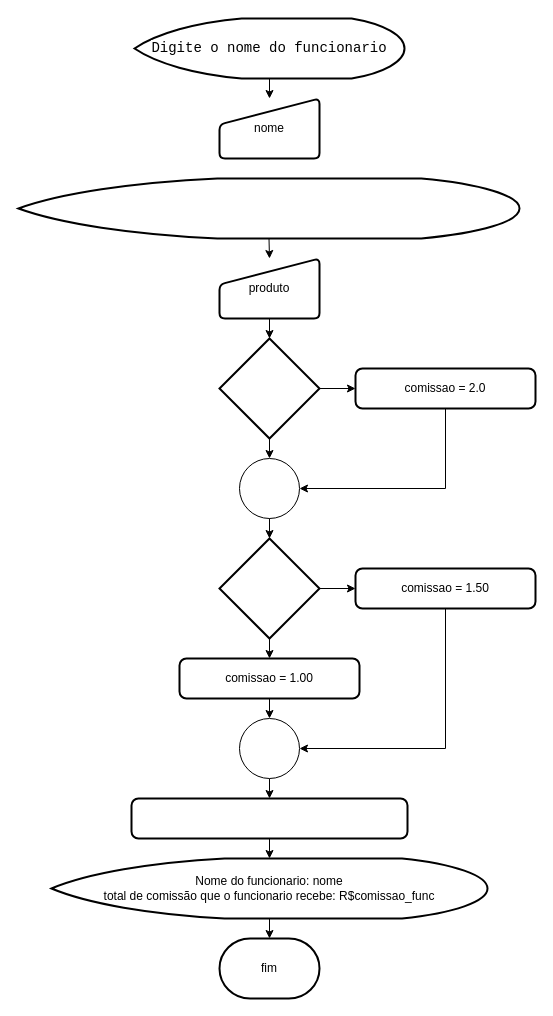
The diagram is 553 pixels wide and 1016 high, and some of its shapes have lost their labels. Each missing label, with the centre of its shape:
"comissao_func = comissao * produto" goes at pixel 269 818.
"Digite a quantidade de produtos que o funcionario vendeu" goes at pixel 268 208.
"produto>250" goes at pixel 269 588.
"produto>500" goes at pixel 269 388.
